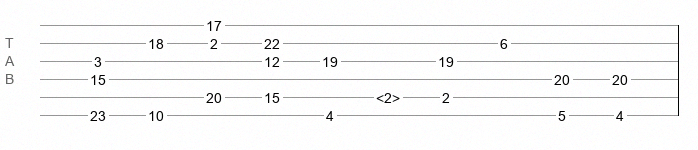10: (148, 108, 164, 118)
12: (264, 54, 280, 64)
15: (90, 72, 106, 82), (264, 90, 280, 100)
17: (206, 18, 222, 28)
18: (148, 36, 164, 46)
19: (322, 54, 338, 64), (438, 54, 454, 64)
2: (210, 36, 218, 46), (442, 90, 450, 100)
20: (206, 90, 222, 100), (554, 72, 570, 82), (612, 72, 628, 82)
22: (264, 36, 280, 46)
23: (90, 108, 106, 118)
3: (94, 54, 102, 64)
4: (326, 108, 334, 118), (616, 108, 624, 118)
5: (558, 108, 566, 118)
6: (500, 36, 508, 46)
harmonic: (376, 90, 400, 100)
